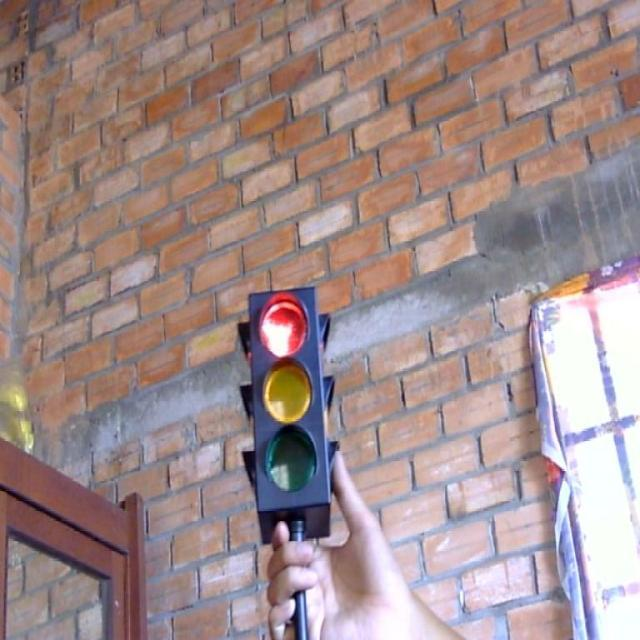red light: (252, 291, 316, 362)
